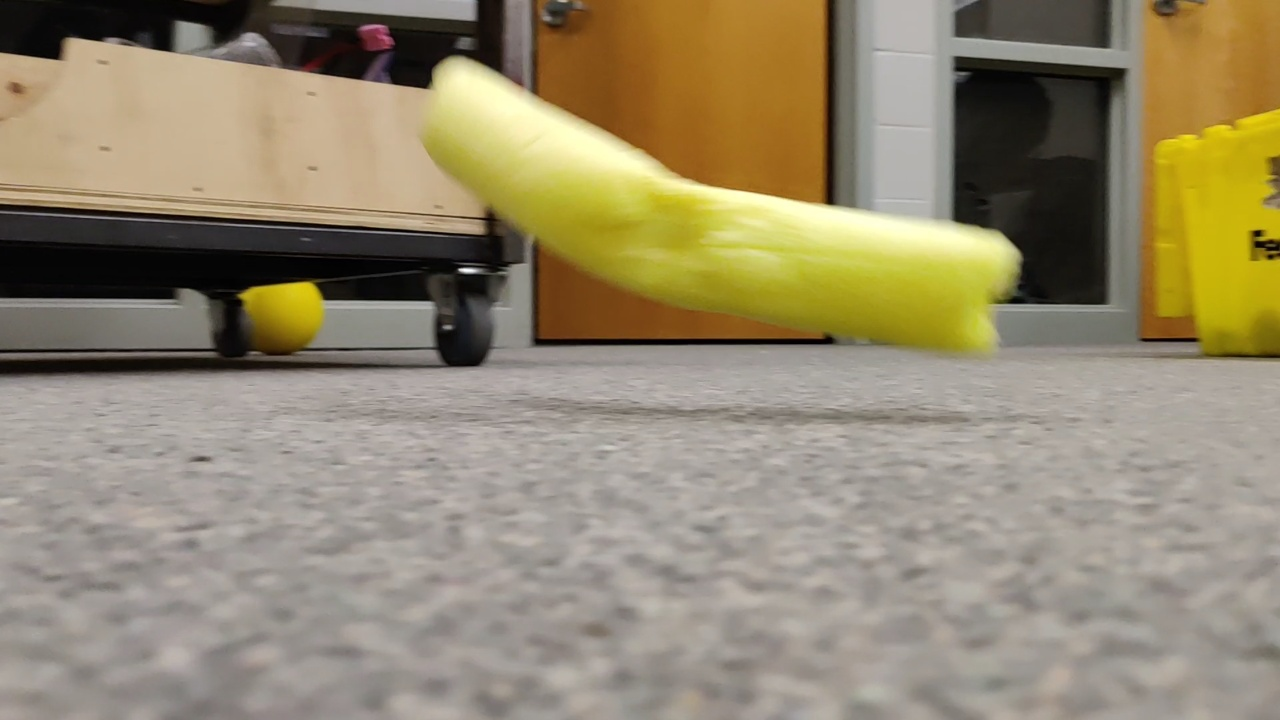Ball: (219, 278, 327, 360)
